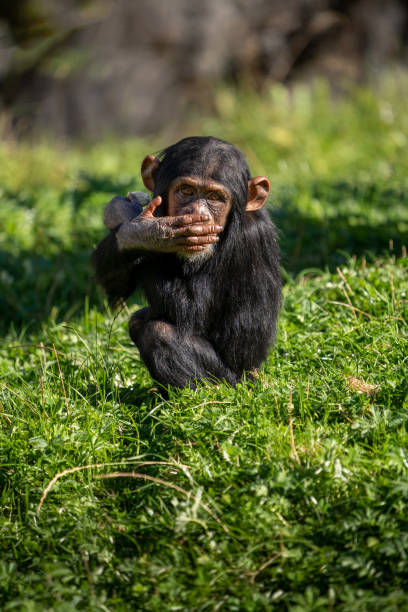chimpanzee: (117, 127, 276, 282)
